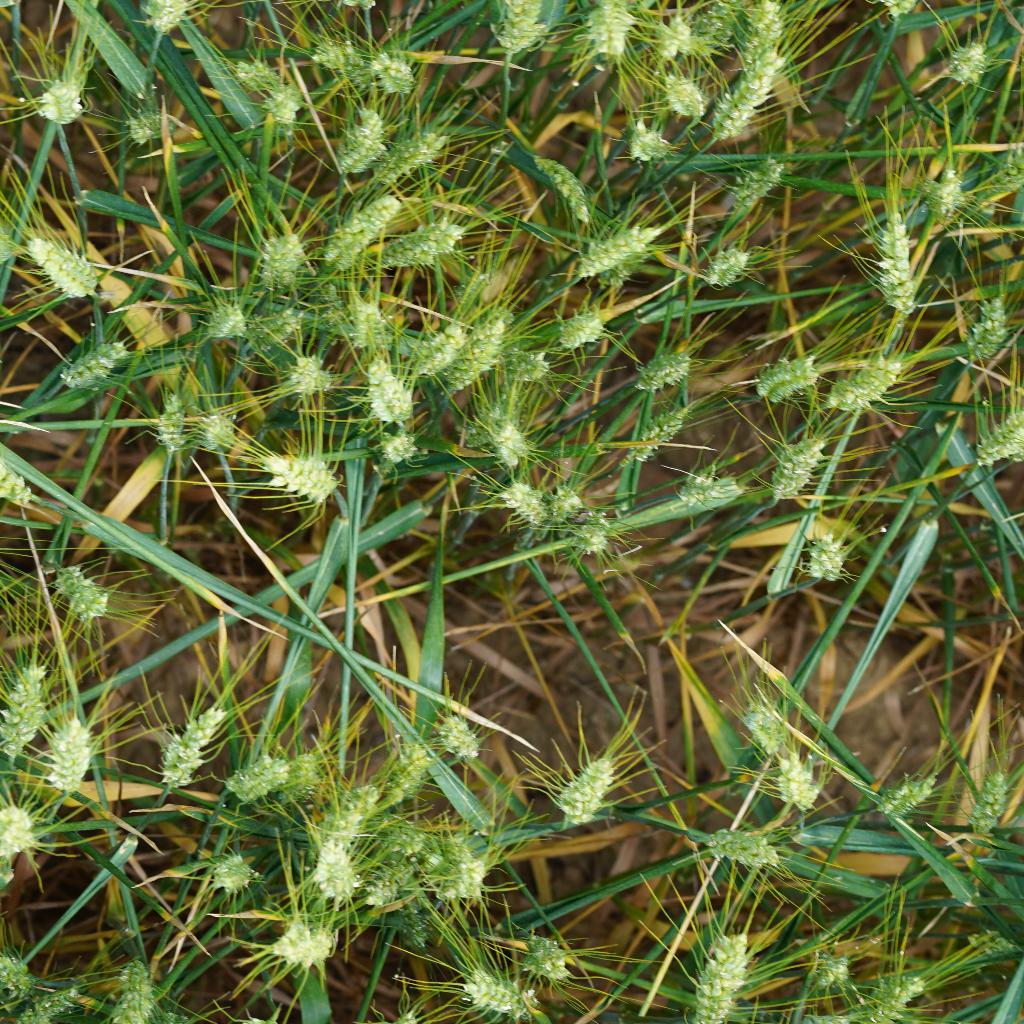0-0: (139, 686, 232, 800), (545, 744, 649, 843), (673, 916, 757, 1024), (7, 231, 112, 311), (854, 204, 923, 318), (306, 190, 397, 273), (570, 219, 673, 286), (34, 718, 104, 815), (247, 426, 333, 504), (762, 426, 834, 518), (45, 555, 130, 631), (815, 354, 905, 425), (260, 909, 350, 980), (460, 950, 546, 1024), (759, 748, 845, 815), (961, 283, 1017, 384), (377, 219, 470, 279), (713, 47, 777, 134), (0, 649, 45, 769), (959, 758, 1023, 841), (453, 309, 516, 393), (941, 29, 1006, 109), (601, 119, 686, 180), (695, 232, 776, 296), (520, 923, 597, 990), (531, 141, 595, 220), (966, 138, 1024, 225), (727, 139, 793, 215), (23, 64, 98, 130), (376, 120, 444, 191), (703, 817, 789, 873), (733, 687, 806, 752), (634, 346, 703, 414), (968, 404, 1023, 489), (423, 836, 492, 903), (862, 965, 937, 1024), (549, 478, 608, 552), (193, 404, 265, 464), (552, 303, 623, 363), (109, 960, 175, 1024), (672, 463, 747, 519), (58, 335, 135, 389), (250, 225, 310, 294), (12, 972, 88, 1024), (365, 419, 433, 477), (866, 766, 937, 821), (358, 828, 407, 907), (408, 313, 460, 387), (754, 350, 815, 413), (340, 287, 400, 351), (363, 355, 414, 430), (303, 830, 357, 900), (800, 937, 862, 997), (492, 0, 549, 64), (806, 522, 858, 590), (429, 699, 486, 761), (328, 111, 384, 174), (283, 343, 336, 408), (361, 736, 426, 789), (661, 64, 712, 130), (221, 755, 294, 799), (202, 291, 251, 354), (583, 0, 632, 63), (318, 788, 381, 837), (198, 845, 261, 894), (922, 163, 965, 234), (627, 406, 688, 455), (306, 18, 351, 83), (746, 0, 795, 59), (150, 381, 189, 455), (145, 0, 200, 52), (486, 411, 539, 464), (494, 481, 550, 531), (0, 802, 45, 864), (116, 103, 175, 150), (518, 342, 571, 393), (261, 75, 303, 134), (649, 4, 691, 60), (373, 49, 418, 94), (235, 59, 279, 100), (703, 0, 742, 45), (288, 748, 326, 792)
